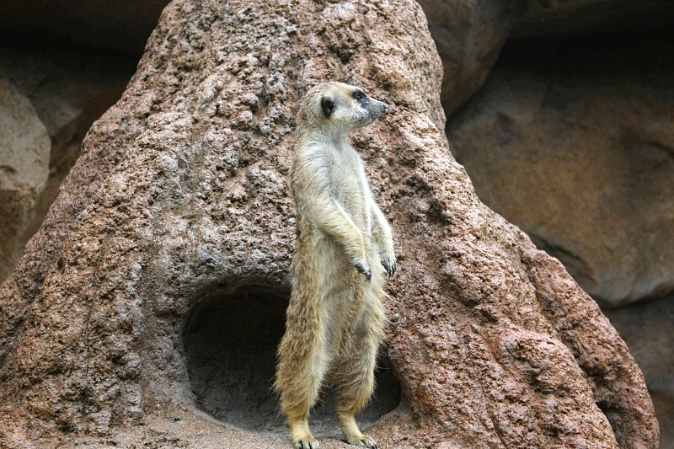meerkat: (262, 69, 408, 449)
